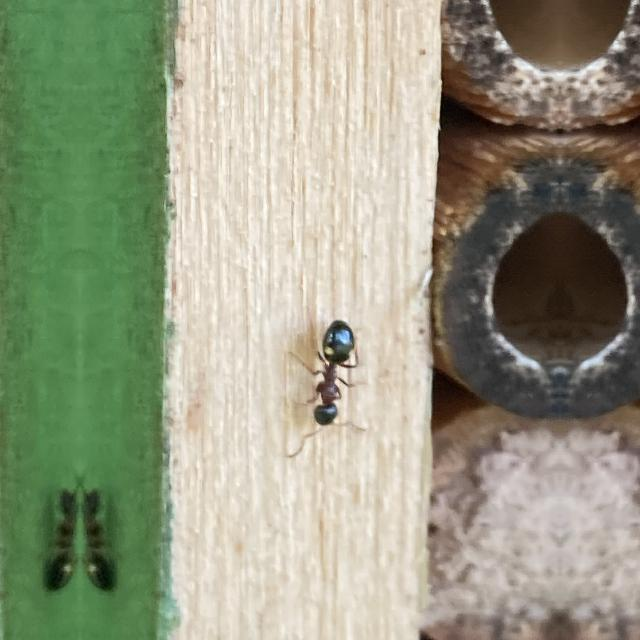Dolichoderus: (289, 292, 373, 453)
